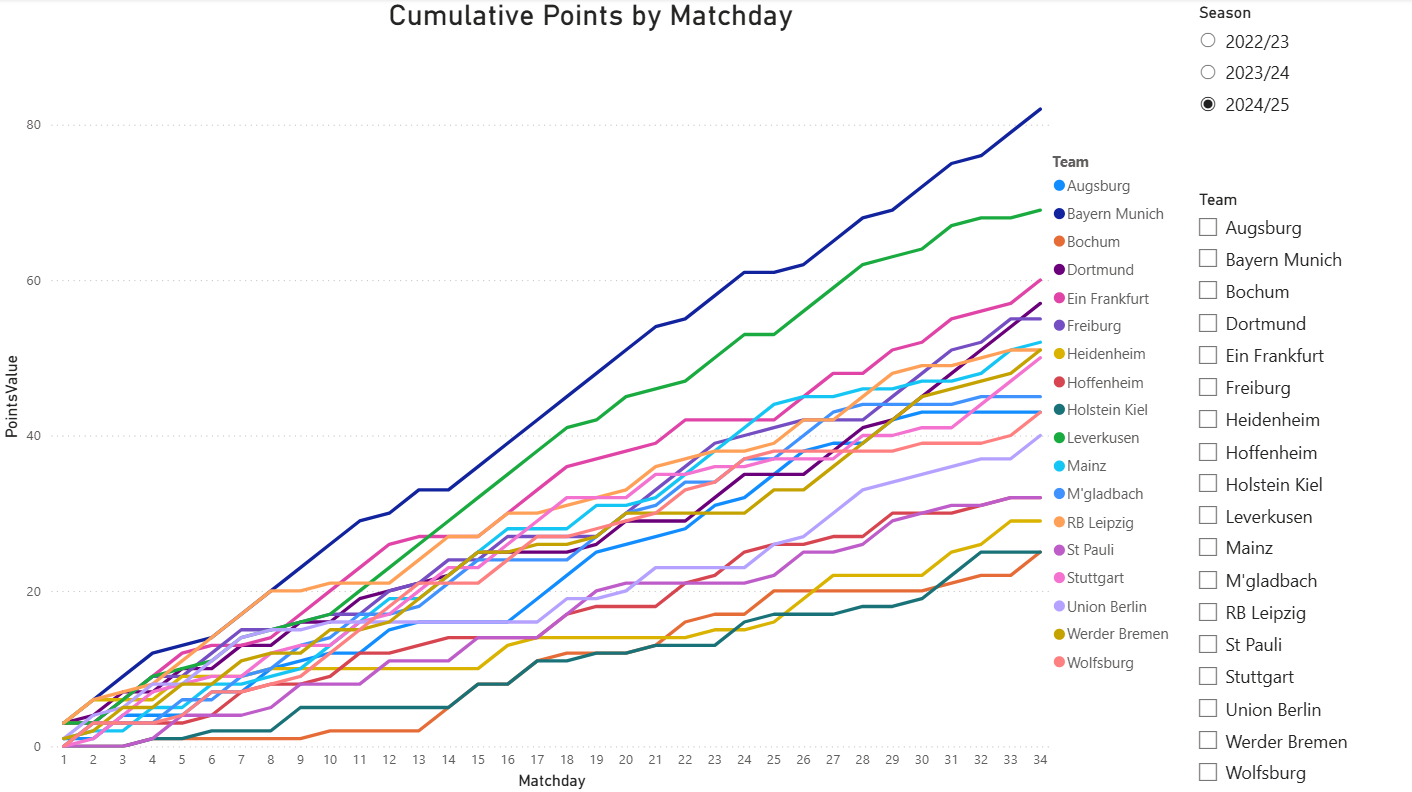

This screenshot's page, from the dashboard's own definition file:
{"tool":"powerbi","page":{"name":"Season Form","canvas":[1280,720],"ordinal":1},"visuals":[{"type":"lineChart","title":"Cumulative Points by Matchday","fields":{"Category":["form_all_fixed2.Matchday"],"Y":["form_all_fixed2.PointsValue"],"Series":["form_all_fixed2.Team"]},"box":[0,0,1073.3,720],"z":0},{"type":"slicer","fields":{"Values":["form_all_fixed2.Season"]},"box":[1073.1,0,207.2,168.8],"z":1000},{"type":"slicer","fields":{"Values":["form_all_fixed2.Team"]},"box":[1073.1,168.8,207.2,551.6],"z":2000}]}

Visuals, with their boxes in screenshot pixels (x1, y1, x2, y2), scaled from the page's 1280x720 canvas onto the 1412x792 screenshot:
"Cumulative Points by Matchday" lineChart: bbox=[0, 0, 1184, 791]
slicer - form_all_fixed2.Season: bbox=[1184, 0, 1411, 186]
slicer - form_all_fixed2.Team: bbox=[1184, 186, 1411, 791]
